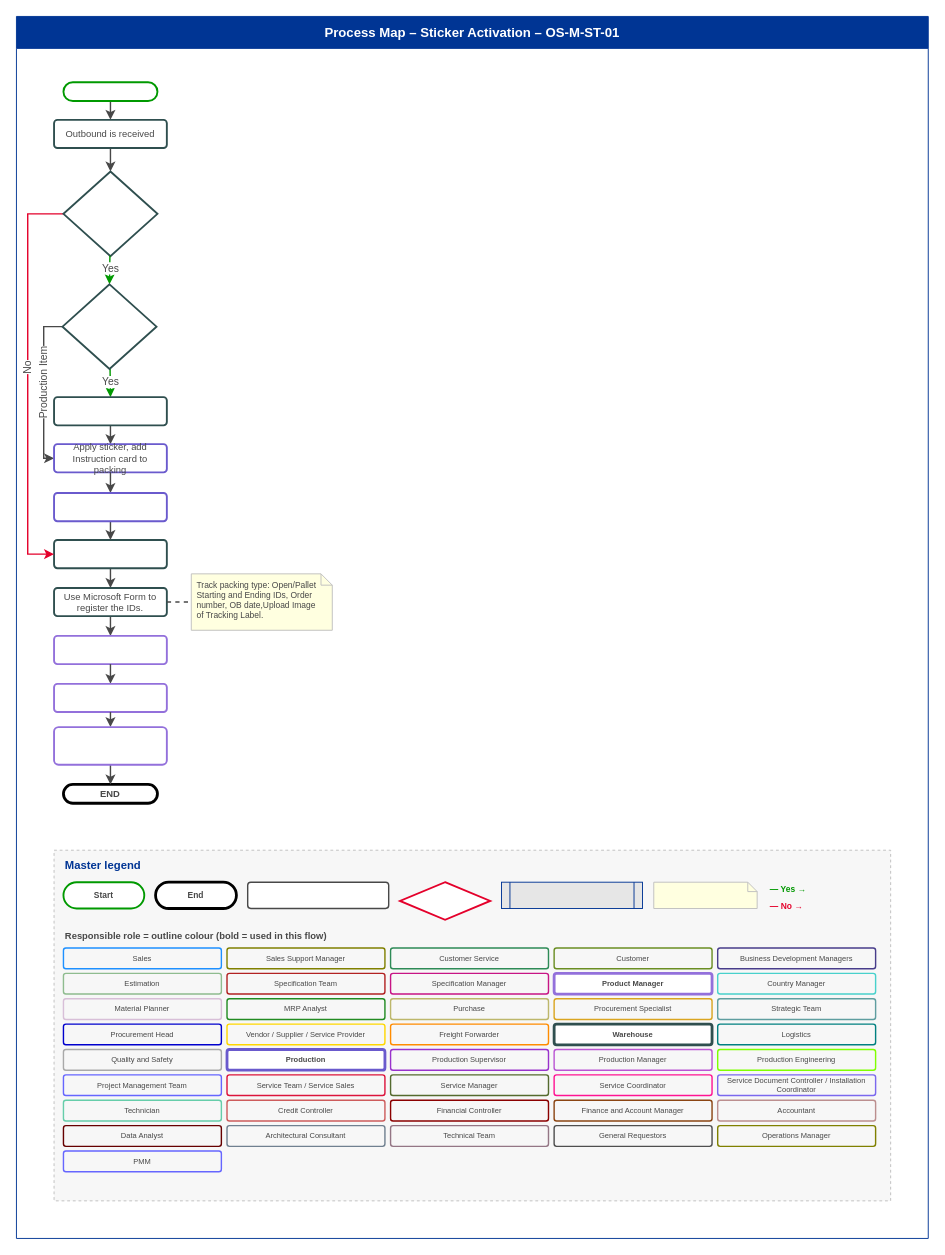
This 945x1255 diagram has some shape labels left out. The shapes that lost their labels are listed below. From the top down, each one's centre as x and y in pixels, then its label:
(x=110, y=91): Activation
(x=110, y=213): Product requiries labeling?
(x=109, y=326): Pruchased Stock
(x=110, y=411): Transfer the materials to the production plant.
(x=110, y=507): Transfer the material to the logistics center.
(x=110, y=554): Materials to be picked and transferred to transit area
(x=110, y=649): Activate the registered IDs
(x=110, y=697): Monthly Track customers who scan 10 IDs.
(x=110, y=745): Collaborate with sales team to distribute rewards to Winners.
(x=318, y=895): Activity (outline = role)
(x=445, y=900): Decision
(x=571, y=895): Linked process (Ref ID)
(x=705, y=895): Note / checklist
